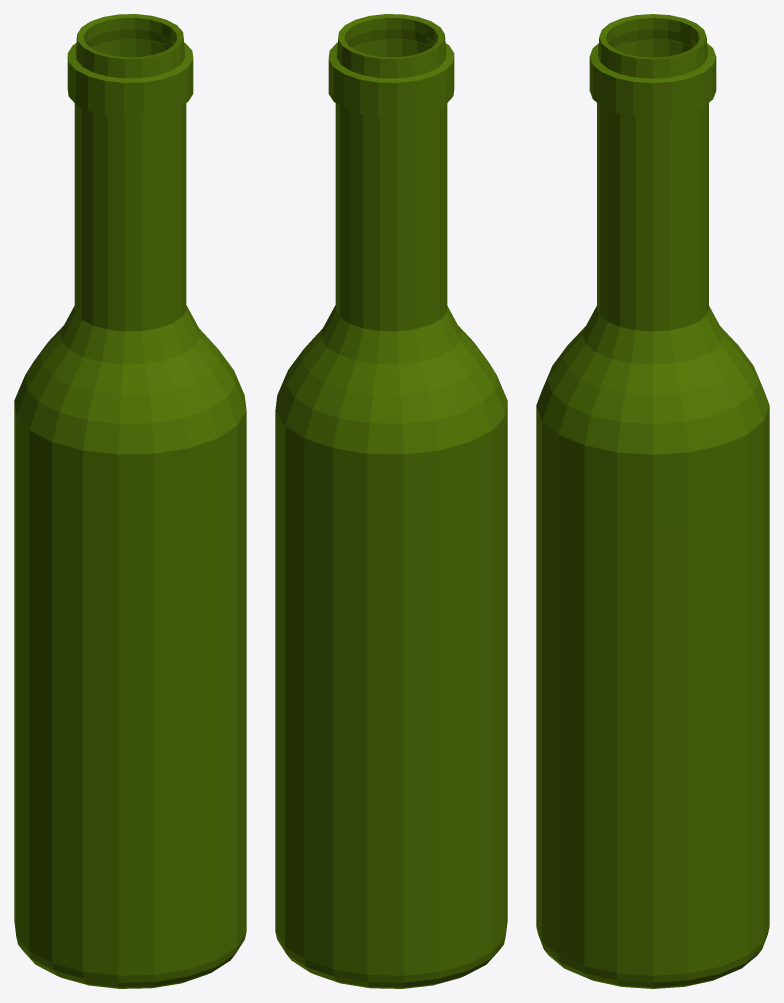
File: winnie.fbx
The picture shows the model from 3 angles, left to right: view 1: azimuth 30°, elevation 25°; view 2: azimuth 150°, elevation 25°; view 3: azimuth 270°, elevation 25°; orthographic projection.
Visible parts, largest first — view 1: pCylinder3; view 2: pCylinder3; view 3: pCylinder3.
Part boxes in pixels (x1,y1,x2,y2): pCylinder3: (14, 14, 246, 988); pCylinder3: (275, 14, 507, 988); pCylinder3: (536, 14, 769, 988).
Bounding box in the file's own units: 12.87 × 55.41 × 12.87.
